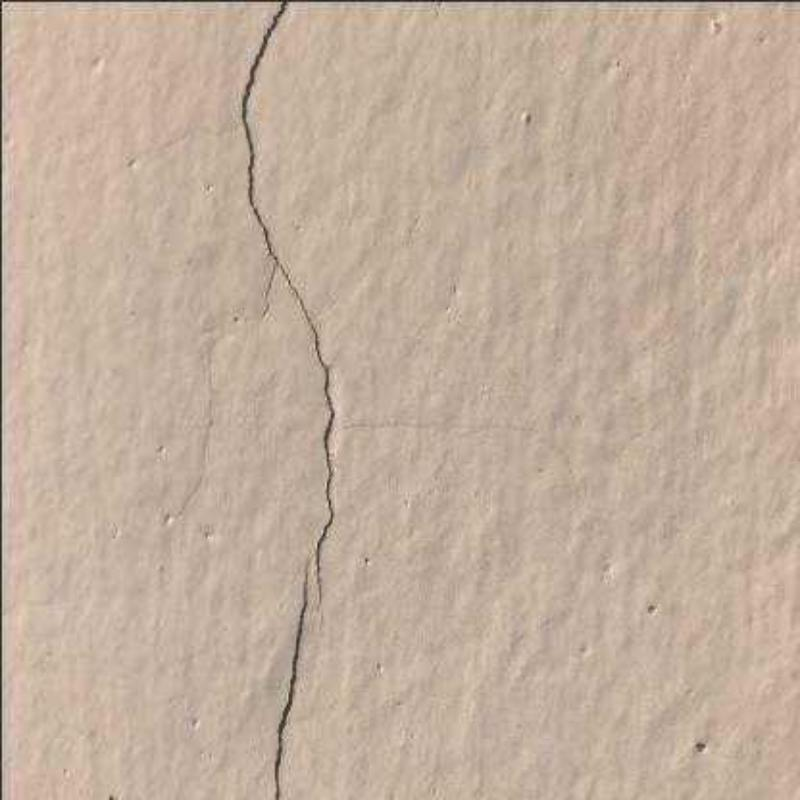pothole: (242, 2, 335, 620), (274, 566, 308, 800), (260, 267, 275, 319)
